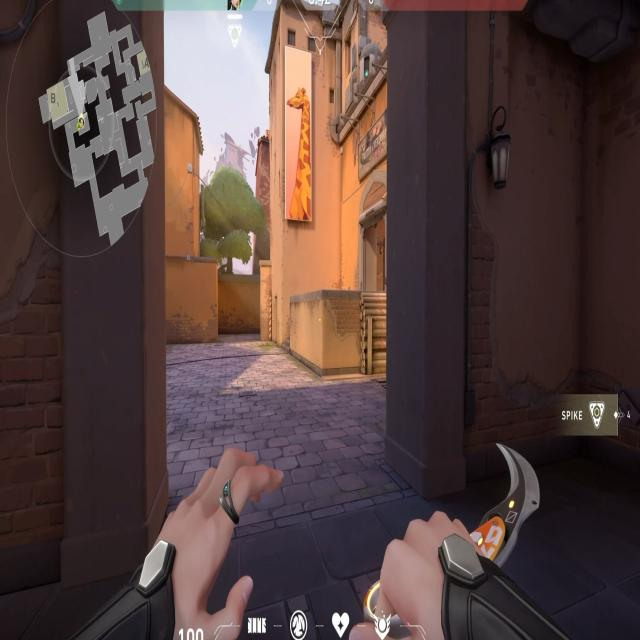B_Cubby: (318, 281, 388, 384)
